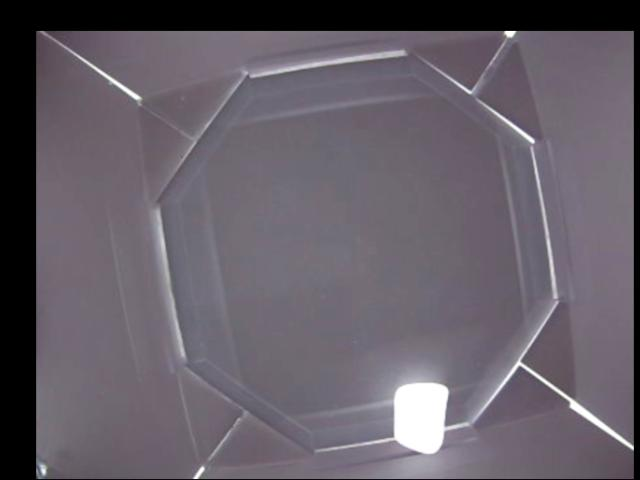Pebble: (393, 380, 446, 453)
